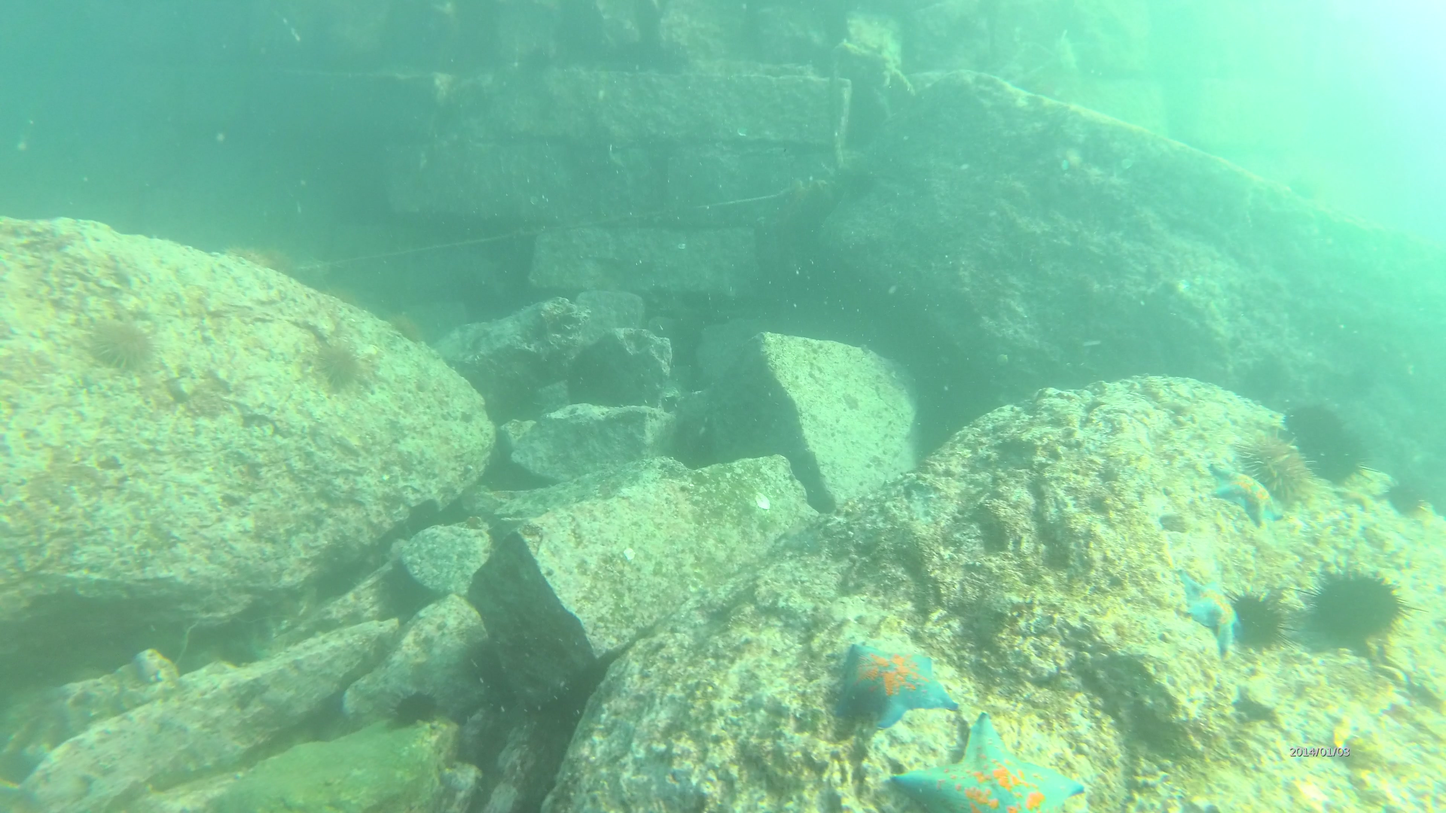holothurian: (887, 709, 1087, 813), (831, 637, 964, 728), (1176, 560, 1240, 655), (1206, 458, 1287, 532)
starfish: (1298, 566, 1412, 652), (1282, 400, 1364, 485), (1231, 431, 1316, 503), (1218, 582, 1295, 653), (82, 315, 158, 379), (306, 336, 367, 397), (1394, 471, 1431, 524)
